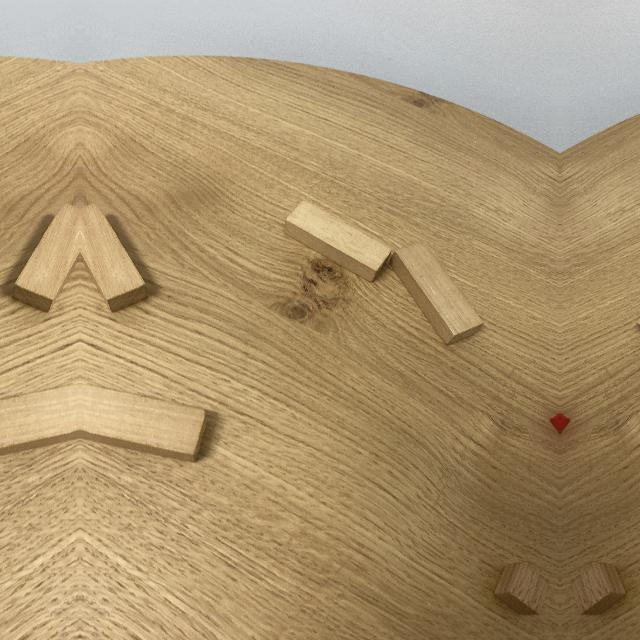cube: (494, 562, 547, 615), (573, 562, 626, 615)
jenga: (80, 380, 206, 463), (389, 244, 483, 346), (283, 201, 393, 283), (80, 204, 150, 313), (10, 204, 80, 313), (0, 380, 80, 456)
